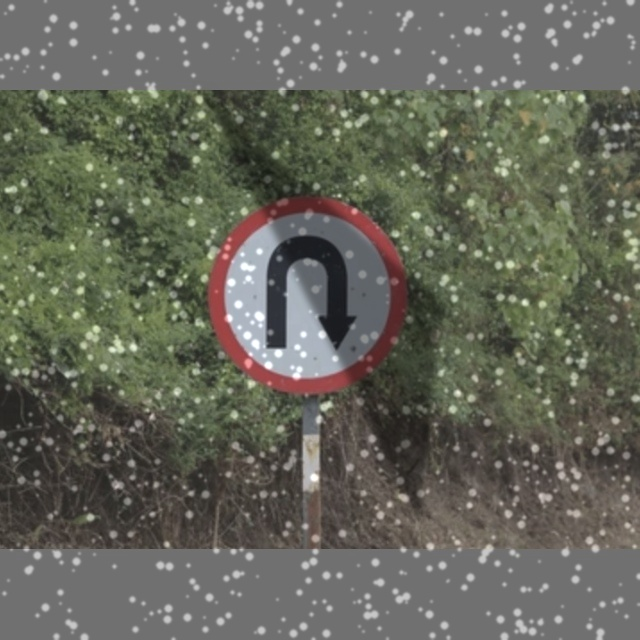U_Turn_Ahead: (209, 201, 414, 388)
